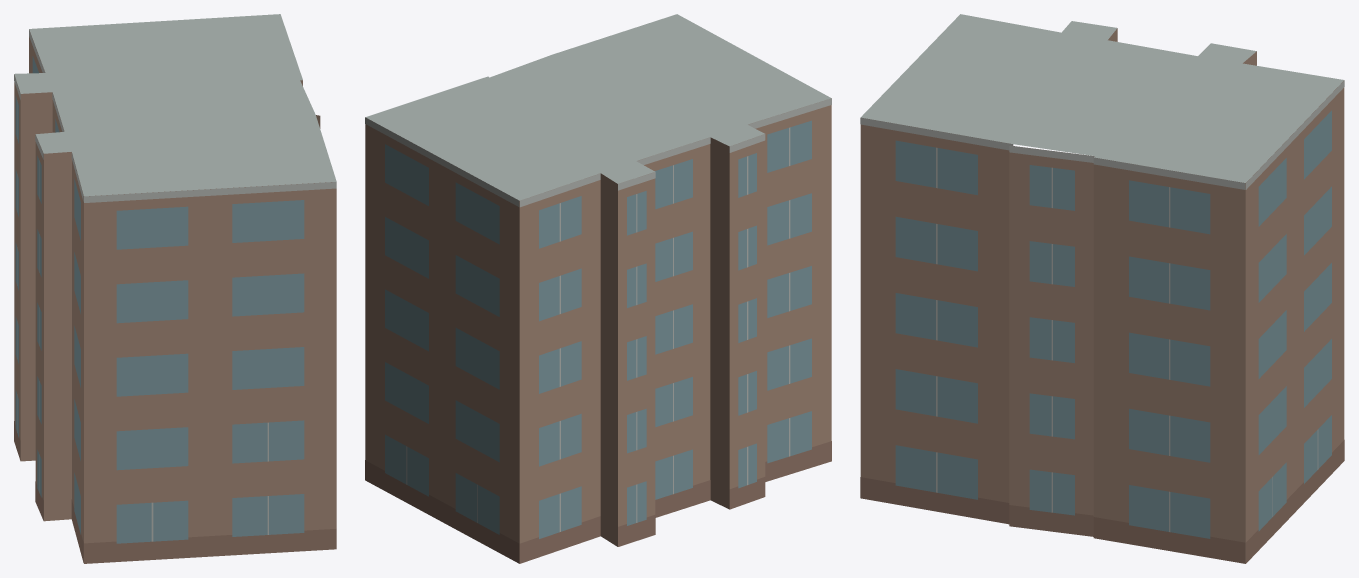
File: survey-upis-32751636.glb
The picture shows the model from 3 angles, left to right: view 1: azimuth 30°, elevation 25°; view 2: azimuth 150°, elevation 25°; view 3: azimuth 270°, elevation 25°; orthographic projection. The views are drawn at different scales.
Parts seen in each view (by area): view 1: survey-upis-32751636.tmp; view 2: survey-upis-32751636.tmp; view 3: survey-upis-32751636.tmp.
Part boxes in pixels (x1,y1,x2,y2): survey-upis-32751636.tmp: (14, 14, 336, 563); survey-upis-32751636.tmp: (365, 14, 831, 563); survey-upis-32751636.tmp: (860, 14, 1344, 563).
Bounding box in the file's own units: 12.68 × 13.3 × 15.33.
